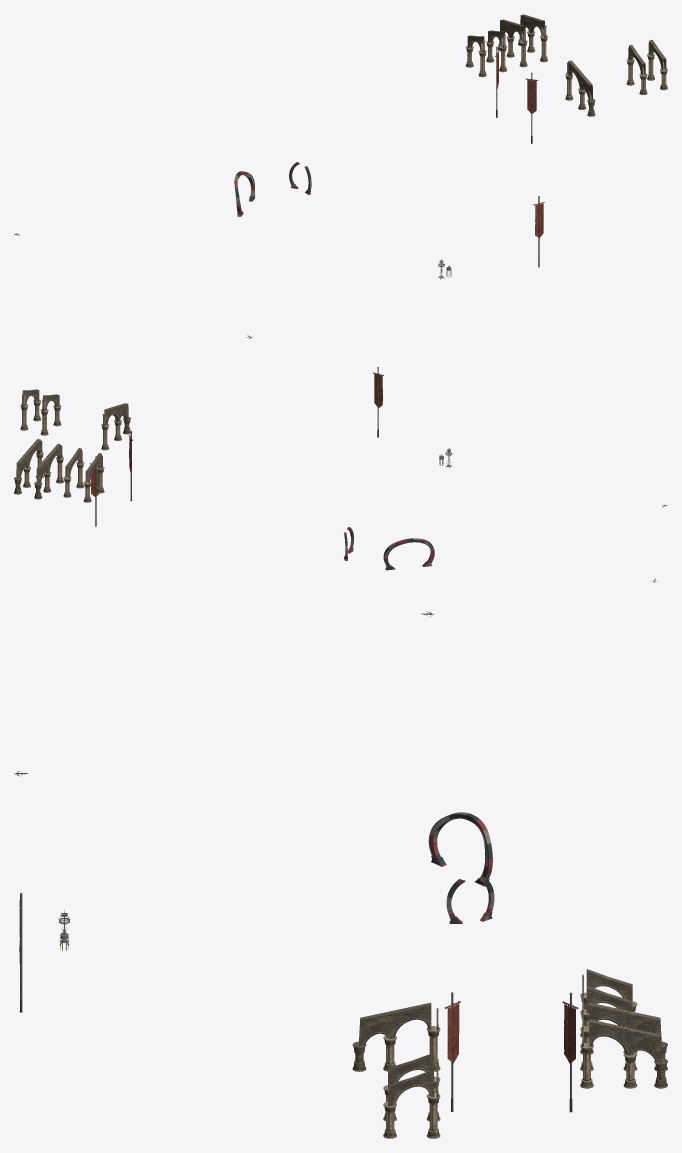
Rendered from enc_int_amaoto.glb.
The picture shows the model from 3 angles, top to bottom: view 1: azimuth 30°, elevation 25°; view 2: azimuth 150°, elevation 25°; view 3: azimuth 270°, elevation 25°; orthographic projection. The views are drawn at different scales.
Visible parts, largest first — view 1: KB3D_ECI_IntPaladinsArmory_A_ArchSecondFloorZ, KB3D_ECI_IntPaladinsArmory_A_ArchSecondFloorX, KB3D_ECI_IntPaladinsArmory_A_ArchSecondFloorY, KB3D_ECI_IntPaladinsArmory_A_ArchSecondFloorW, KB3D_ECI_IntPaladinsArmory_A_ArchSecondFloorV, KB3D_ECI_IntPaladinsArmory_A_ArchSecondFloorU, KB3D_ECI_IntPaladinsArmory_A_ArchSecondFloorT; view 2: KB3D_ECI_IntPaladinsArmory_A_ArchSecondFloorY, KB3D_ECI_IntPaladinsArmory_A_ArchSecondFloorZ, KB3D_ECI_IntPaladinsArmory_A_ArchSecondFloorX, KB3D_ECI_IntPaladinsArmory_A_ArchSecondFloorT, KB3D_ECI_IntPaladinsArmory_A_ArchSecondFloorU, KB3D_ECI_IntPaladinsArmory_A_ArchSecondFloorW, KB3D_ECI_IntWizardOffice_A_ArchwayA, KB3D_ECI_IntPaladinsArmory_A_ArchSecondFloorV, KB3D_ECI_PropBannerPole_A_Main; view 3: KB3D_ECI_IntPaladinsArmory_A_ArchSecondFloorX, KB3D_ECI_IntPaladinsArmory_A_ArchSecondFloorZ, KB3D_ECI_IntPaladinsArmory_A_ArchSecondFloorW, KB3D_ECI_IntPaladinsArmory_A_ArchSecondFloorY, KB3D_ECI_IntWizardOffice_A_ArchwayA, KB3D_ECI_IntPaladinsArmory_A_ArchSecondFloorV, KB3D_ECI_IntPaladinsArmory_A_BannerPoleB, KB3D_ECI_IntPaladinsArmory_A_ArchSecondFloorU, KB3D_ECI_IntPaladinsArmory_A_BannerPoleA, KB3D_ECI_IntPaladinsArmory_A_ArchSecondFloorT.
Part boxes in pixels (x1=…): KB3D_ECI_IntPaladinsArmory_A_ArchSecondFloorZ: x1=565, y1=60, x2=595, y2=116; KB3D_ECI_IntPaladinsArmory_A_ArchSecondFloorX: x1=518, y1=14, x2=547, y2=62; KB3D_ECI_IntPaladinsArmory_A_ArchSecondFloorY: x1=497, y1=19, x2=527, y2=67; KB3D_ECI_IntPaladinsArmory_A_ArchSecondFloorW: x1=647, y1=39, x2=667, y2=90; KB3D_ECI_IntPaladinsArmory_A_ArchSecondFloorV: x1=626, y1=45, x2=647, y2=94; KB3D_ECI_IntPaladinsArmory_A_ArchSecondFloorU: x1=465, y1=35, x2=486, y2=77; KB3D_ECI_IntPaladinsArmory_A_ArchSecondFloorT: x1=486, y1=30, x2=507, y2=72; KB3D_ECI_IntPaladinsArmory_A_ArchSecondFloorY: x1=34, y1=443, x2=63, y2=499; KB3D_ECI_IntPaladinsArmory_A_ArchSecondFloorZ: x1=101, y1=403, x2=130, y2=450; KB3D_ECI_IntPaladinsArmory_A_ArchSecondFloorX: x1=14, y1=438, x2=43, y2=494; KB3D_ECI_IntPaladinsArmory_A_ArchSecondFloorT: x1=63, y1=448, x2=84, y2=497; KB3D_ECI_IntPaladinsArmory_A_ArchSecondFloorU: x1=83, y1=453, x2=104, y2=502; KB3D_ECI_IntPaladinsArmory_A_ArchSecondFloorW: x1=20, y1=389, x2=41, y2=430; KB3D_ECI_IntWizardOffice_A_ArchwayA: x1=383, y1=538, x2=434, y2=570; KB3D_ECI_IntPaladinsArmory_A_ArchSecondFloorV: x1=40, y1=394, x2=61, y2=435; KB3D_ECI_PropBannerPole_A_Main: x1=373, y1=367, x2=383, y2=437; KB3D_ECI_IntPaladinsArmory_A_ArchSecondFloorX: x1=580, y1=1019, x2=667, y2=1088; KB3D_ECI_IntPaladinsArmory_A_ArchSecondFloorZ: x1=352, y1=1002, x2=440, y2=1071; KB3D_ECI_IntPaladinsArmory_A_ArchSecondFloorW: x1=383, y1=1069, x2=440, y2=1138; KB3D_ECI_IntPaladinsArmory_A_ArchSecondFloorY: x1=580, y1=1002, x2=667, y2=1070; KB3D_ECI_IntWizardOffice_A_ArchwayA: x1=428, y1=812, x2=492, y2=886; KB3D_ECI_IntPaladinsArmory_A_ArchSecondFloorV: x1=383, y1=1052, x2=440, y2=1121; KB3D_ECI_IntPaladinsArmory_A_BannerPoleB: x1=444, y1=992, x2=460, y2=1111; KB3D_ECI_IntPaladinsArmory_A_ArchSecondFloorU: x1=580, y1=969, x2=637, y2=1036; KB3D_ECI_IntPaladinsArmory_A_BannerPoleA: x1=562, y1=992, x2=578, y2=1112; KB3D_ECI_IntPaladinsArmory_A_ArchSecondFloorT: x1=580, y1=986, x2=637, y2=1054.
Bounding box in the file's own units: 86.04 × 10.21 × 45.16.
14 materials, 14 textured.
